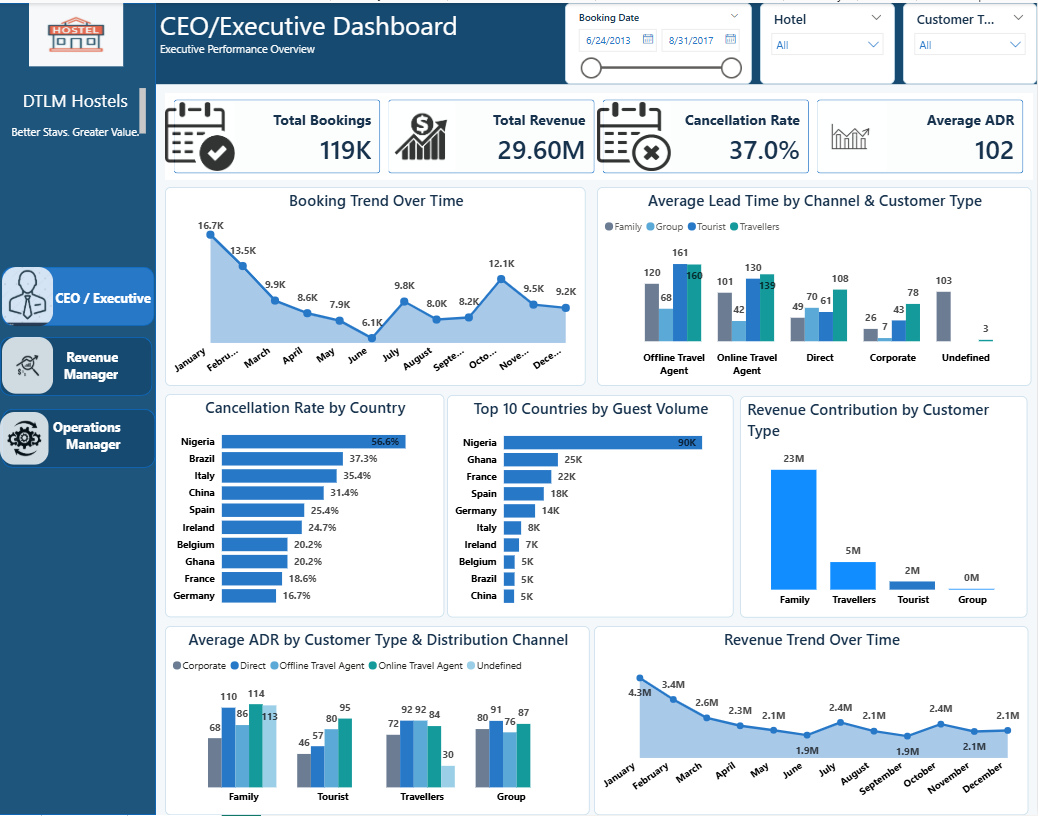

This screenshot's page, from the dashboard's own definition file:
{"tool":"powerbi","page":{"name":"CEO","canvas":[1280,1000],"ordinal":0},"visuals":[{"type":"shape","box":[193.8,0,1086.2,100],"z":0},{"type":"shape","box":[0,0,188.4,1000],"z":1000},{"type":"cardVisual","fields":{"Data":["KPI Measures.Total Bookings","KPI Measures.Total Revenue","KPI Measures.Cancellation Rate","KPI Measures.Average ADR"]},"box":[195.8,110.8,1078.8,107.1],"z":2000},{"type":"lineChart","title":"Booking Trend Over Time","fields":{"Category":["Data.Booking Date.Variation.Date Hierarchy.Month"],"Y":["CountNonNull(Data.Booking ID)"]},"box":[196.2,226.2,527.5,245],"z":3000},{"type":"clusteredColumnChart","title":"Average Lead Time by Channel & Customer Type","fields":{"Category":["Data.Distribution Channel"],"Y":["Avg(Data.Lead Time)"],"Series":["Data.Customer Type"]},"box":[737.5,226.2,535,245],"z":4000},{"type":"lineChart","title":"Revenue Trend Over Time","fields":{"Category":["Data.Booking Date.Variation.Date Hierarchy.Month"],"Y":["KPI Measures.Total Revenue"]},"box":[733.8,767.5,535,232.5],"z":5000},{"type":"columnChart","title":"Revenue Contribution by Customer Type","fields":{"Category":["Data.Customer Type"],"Y":["KPI Measures.Total Revenue"]},"box":[913.8,483.8,353.8,272.5],"z":6000},{"type":"clusteredColumnChart","title":"Average ADR by Customer Type & Distribution Channel","fields":{"Category":["Data.Customer Type"],"Y":["Avg(Data.Avg Daily Rate)"],"Series":["Data.Distribution Channel"]},"box":[192.5,767.5,536.2,232.5],"z":7000},{"type":"clusteredBarChart","title":"Top 10 Countries by Guest Volume","fields":{"Category":["Data.Country"],"Y":["Sum(Data.Guests)"]},"box":[552.5,482.5,352.5,273.8],"z":8000},{"type":"clusteredBarChart","title":"Cancellation Rate by Country","fields":{"Category":["Data.Country"],"Y":["KPI Measures.Cancellation Rate"]},"box":[193.8,481.2,355,275],"z":9000},{"type":"textbox","box":[194,0,446.5,90.8],"z":10000},{"type":"slicer","fields":{"Values":["Data.Booking Date"]},"box":[698.3,0,230.3,99.8],"z":11000},{"type":"slicer","fields":{"Values":["Data.Customer Type"]},"box":[1115,0,165,100],"z":12000},{"type":"slicer","fields":{"Values":["Data.Hotel"]},"box":[938.4,0,166.3,99.8],"z":13000},{"type":"image","box":[38.6,0,115.7,78.4],"z":14000},{"type":"textbox","box":[11.2,100,176.2,68.8],"z":15000},{"type":"shape","box":[5,325,187.5,72.5],"z":16000},{"type":"shape","box":[2.5,411.2,187.5,72.5],"z":17000},{"type":"shape","box":[5,500,188.8,72.5],"z":18000},{"type":"actionButton","box":[39.4,327.6,152.7,70.2],"z":19000},{"type":"actionButton","box":[10,410,147.5,72.5],"z":20000},{"type":"actionButton","box":[11.2,496.2,143.8,72.5],"z":21000},{"type":"image","box":[5,325,62.5,72.5],"z":22000},{"type":"image","box":[2.5,503.8,60,65],"z":23000},{"type":"image","box":[5,411.2,62.5,70],"z":24000},{"type":"image","box":[1004.9,121.9,89.9,85],"z":25000},{"type":"image","box":[737.7,121.9,91.1,85],"z":26000},{"type":"image","box":[205.7,121.9,86.2,85],"z":27000},{"type":"image","box":[477.8,121.9,86.2,85],"z":28000}]}

Visuals, with their boxes on the page's 1280x1000 design canvas (x1, y1, x2, y2). These are canvas units, not pixel positions in the 1038x816 screenshot, which may show the page scaled, cropped or inside an application window:
shape: (x1=194, y1=0, x2=1280, y2=100)
shape: (x1=0, y1=0, x2=188, y2=1000)
cardVisual - KPI Measures.Total Bookings x KPI Measures.Total Revenue: (x1=196, y1=111, x2=1275, y2=218)
"Booking Trend Over Time" lineChart: (x1=196, y1=226, x2=724, y2=471)
"Average Lead Time by Channel & Customer Type" clusteredColumnChart: (x1=738, y1=226, x2=1272, y2=471)
"Revenue Trend Over Time" lineChart: (x1=734, y1=768, x2=1269, y2=1000)
"Revenue Contribution by Customer Type" columnChart: (x1=914, y1=484, x2=1268, y2=756)
"Average ADR by Customer Type & Distribution Channel" clusteredColumnChart: (x1=192, y1=768, x2=729, y2=1000)
"Top 10 Countries by Guest Volume" clusteredBarChart: (x1=552, y1=482, x2=905, y2=756)
"Cancellation Rate by Country" clusteredBarChart: (x1=194, y1=481, x2=549, y2=756)
textbox: (x1=194, y1=0, x2=640, y2=91)
slicer - Data.Booking Date: (x1=698, y1=0, x2=929, y2=100)
slicer - Data.Customer Type: (x1=1115, y1=0, x2=1280, y2=100)
slicer - Data.Hotel: (x1=938, y1=0, x2=1105, y2=100)
image: (x1=39, y1=0, x2=154, y2=78)
textbox: (x1=11, y1=100, x2=187, y2=169)
shape: (x1=5, y1=325, x2=192, y2=398)
shape: (x1=2, y1=411, x2=190, y2=484)
shape: (x1=5, y1=500, x2=194, y2=572)
actionButton: (x1=39, y1=328, x2=192, y2=398)
actionButton: (x1=10, y1=410, x2=158, y2=482)
actionButton: (x1=11, y1=496, x2=155, y2=569)
image: (x1=5, y1=325, x2=68, y2=398)
image: (x1=2, y1=504, x2=62, y2=569)
image: (x1=5, y1=411, x2=68, y2=481)
image: (x1=1005, y1=122, x2=1095, y2=207)
image: (x1=738, y1=122, x2=829, y2=207)
image: (x1=206, y1=122, x2=292, y2=207)
image: (x1=478, y1=122, x2=564, y2=207)
